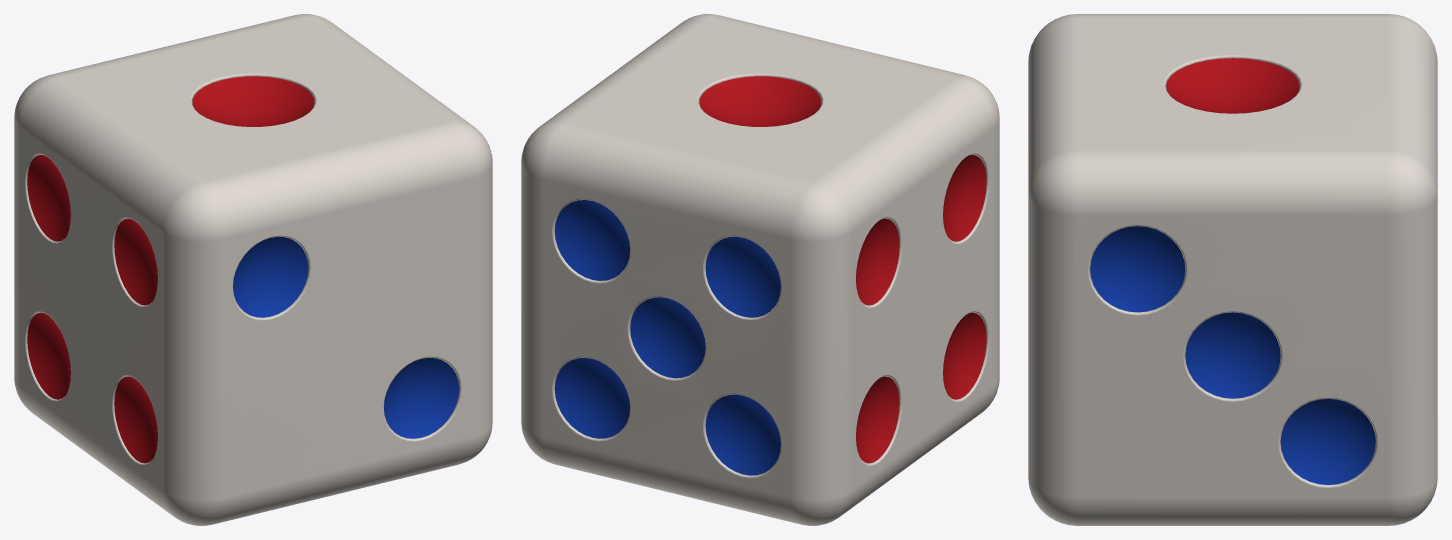
The model's file is ivory-matte-dice.glb.
The picture shows the model from 3 angles, left to right: view 1: azimuth 30°, elevation 25°; view 2: azimuth 150°, elevation 25°; view 3: azimuth 270°, elevation 25°; orthographic projection. The views are drawn at different scales.
Visible parts, largest first — view 1: Ivory body - rounded edges and 21 recessed sockets, Face 1 - pip 1, Face 2 - pip 2, Face 2 - pip 1, Face 4 - pip 4, Face 4 - pip 2, Face 4 - pip 3, Face 4 - pip 1; view 2: Ivory body - rounded edges and 21 recessed sockets, Face 1 - pip 1, Face 5 - pip 3, Face 5 - pip 4, Face 5 - pip 2, Face 5 - pip 1, Face 5 - pip 5, Face 4 - pip 2, Face 4 - pip 1, Face 4 - pip 4, Face 4 - pip 3; view 3: Ivory body - rounded edges and 21 recessed sockets, Face 3 - pip 2, Face 3 - pip 1, Face 3 - pip 3, Face 1 - pip 1.
Boxes of the visible parts, left/top/right/bottom form: Ivory body - rounded edges and 21 recessed sockets: left=14, top=14, right=492, bottom=525; Face 1 - pip 1: left=192, top=76, right=314, bottom=126; Face 2 - pip 2: left=383, top=358, right=459, bottom=438; Face 2 - pip 1: left=233, top=236, right=308, bottom=317; Face 4 - pip 4: left=114, top=218, right=157, bottom=305; Face 4 - pip 2: left=27, top=155, right=70, bottom=241; Face 4 - pip 3: left=114, top=376, right=157, bottom=463; Face 4 - pip 1: left=27, top=312, right=70, bottom=399; Ivory body - rounded edges and 21 recessed sockets: left=521, top=14, right=999, bottom=525; Face 1 - pip 1: left=699, top=76, right=821, bottom=126; Face 5 - pip 3: left=630, top=297, right=705, bottom=378; Face 5 - pip 4: left=705, top=394, right=780, bottom=475; Face 5 - pip 2: left=554, top=200, right=630, bottom=280; Face 5 - pip 1: left=554, top=358, right=630, bottom=438; Face 5 - pip 5: left=705, top=236, right=780, bottom=317; Face 4 - pip 2: left=856, top=218, right=899, bottom=305; Face 4 - pip 1: left=856, top=376, right=899, bottom=463; Face 4 - pip 4: left=943, top=155, right=986, bottom=241; Face 4 - pip 3: left=943, top=312, right=986, bottom=399; Ivory body - rounded edges and 21 recessed sockets: left=1028, top=14, right=1437, bottom=525; Face 3 - pip 2: left=1185, top=312, right=1280, bottom=398; Face 3 - pip 1: left=1090, top=226, right=1185, bottom=312; Face 3 - pip 3: left=1280, top=398, right=1375, bottom=484; Face 1 - pip 1: left=1166, top=58, right=1299, bottom=113.
Size of the model in its own units: 2 by 2 by 2.
